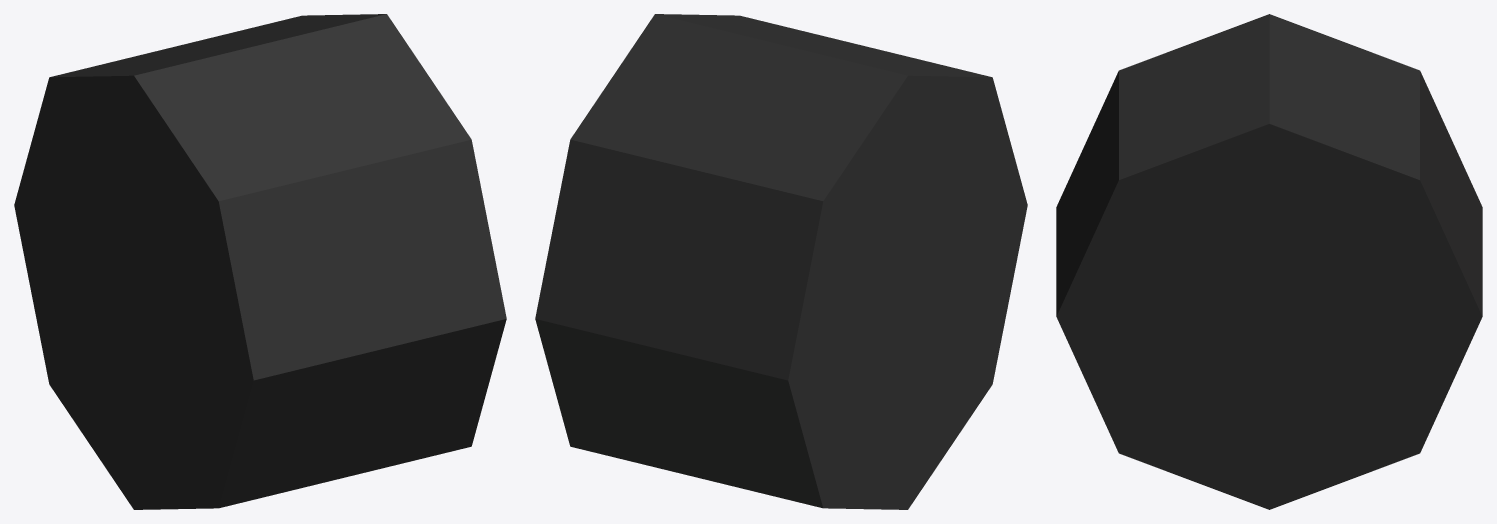
File: N05_Coupler.fbx
The picture shows the model from 3 angles, left to right: view 1: azimuth 30°, elevation 25°; view 2: azimuth 150°, elevation 25°; view 3: azimuth 270°, elevation 25°; orthographic projection. The views are drawn at different scales.
Visible parts, largest first — view 1: N05_Coupler.001; view 2: N05_Coupler.001; view 3: N05_Coupler.001.
Boxes of the visible parts, <box> form: N05_Coupler.001: <box>14,14,506,509</box>; N05_Coupler.001: <box>535,14,1027,509</box>; N05_Coupler.001: <box>1056,14,1482,509</box>.
Bounding box in the file's own units: 0.1 × 0.164 × 0.164.
